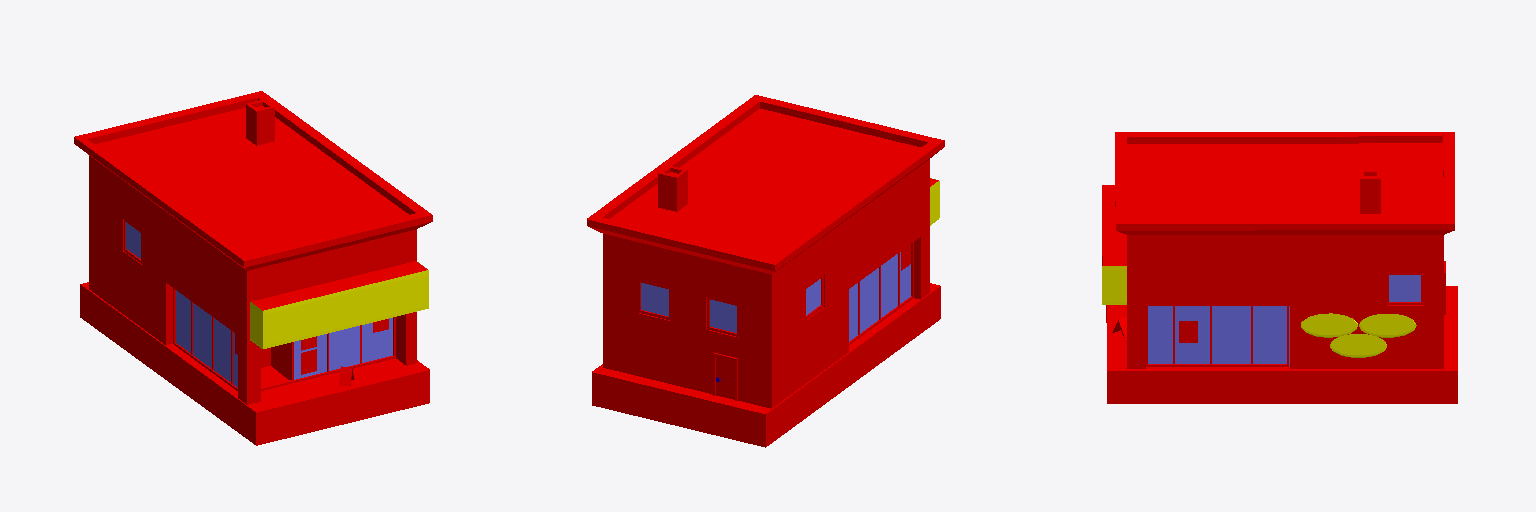
The model's file is EverythingLibrary_Buildings_PizzaRestaurant.obj.
3 renders of one model, left to right at view 1: azimuth 30°, elevation 25°; view 2: azimuth 150°, elevation 25°; view 3: azimuth 270°, elevation 25°, orthographic.
Visible parts, largest first — view 1: base.071_Mesh.160, light.005_Mesh.163, windowRefl.053_Mesh.162; view 2: base.071_Mesh.160, windowRefl.053_Mesh.162; view 3: base.071_Mesh.160, windowRefl.053_Mesh.162, light.005_Mesh.163.
Boxes of the visible parts, box(x1,y1,x2,y2) form: base.071_Mesh.160: box(74, 91, 432, 445); light.005_Mesh.163: box(250, 262, 428, 348); windowRefl.053_Mesh.162: box(126, 222, 392, 387); base.071_Mesh.160: box(587, 95, 944, 447); windowRefl.053_Mesh.162: box(641, 252, 910, 341); base.071_Mesh.160: box(1102, 132, 1457, 403); windowRefl.053_Mesh.162: box(1148, 275, 1420, 365); light.005_Mesh.163: box(1102, 266, 1416, 357).
Bounding box in the file's own units: 11.73 × 12.48 × 19.16.